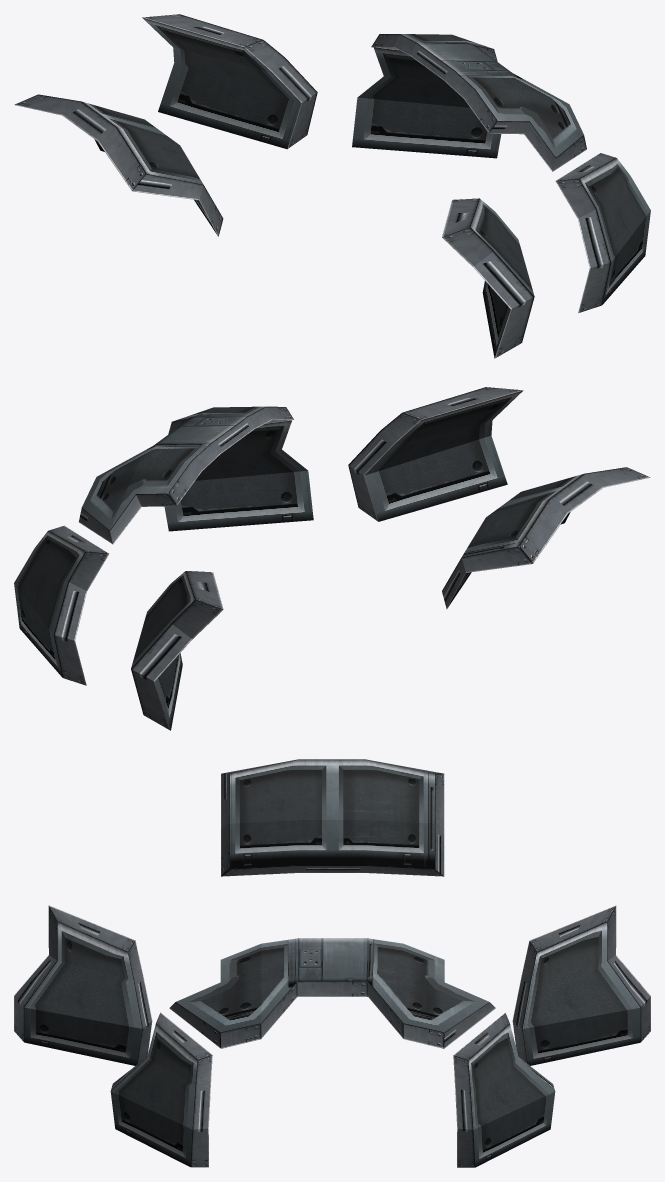
The model's file is flying_unit_hardened.obj.
3 renders of one model, top to bottom at view 1: azimuth 30°, elevation 25°; view 2: azimuth 150°, elevation 25°; view 3: azimuth 270°, elevation 25°, orthographic. The views are drawn at different scales.
Parts seen in each view (by area): view 1: polySurface6; view 2: polySurface6; view 3: polySurface6.
Part boxes in pixels (<box>): polySurface6: <box>14,14,650,358</box>; polySurface6: <box>14,387,650,730</box>; polySurface6: <box>14,759,650,1167</box>.
Bounding box in the file's own units: 30.87 × 12.02 × 35.74.
Materials: 1 (1 with a texture image).
